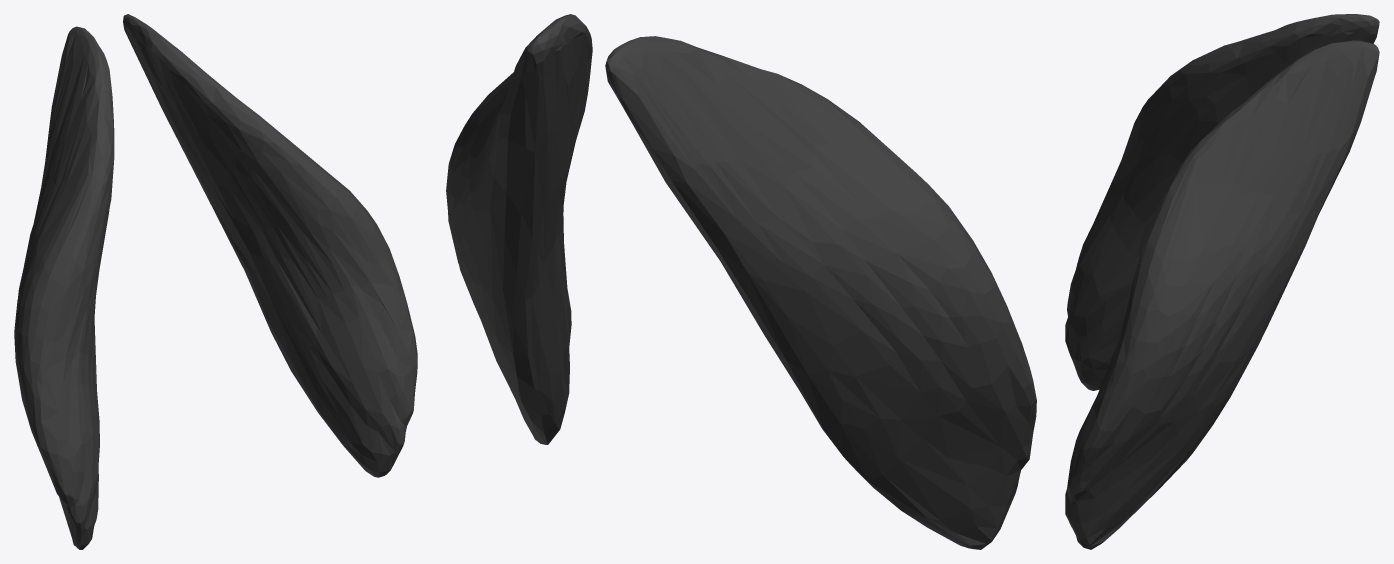
File: m_great_adductor.glb
The picture shows the model from 3 angles, left to right: view 1: azimuth 30°, elevation 25°; view 2: azimuth 150°, elevation 25°; view 3: azimuth 270°, elevation 25°; orthographic projection. The views are drawn at different scales.
Parts seen in each view (by area): view 1: m_great_adductor; view 2: m_great_adductor; view 3: m_great_adductor.
Part boxes in pixels (x1,y1,x2,y2): m_great_adductor: (14,14,417,549); m_great_adductor: (446,14,1036,549); m_great_adductor: (1065,14,1379,549).
Size of the model in its own units: 0.00519 by 0.00523 by 0.00338.
Materials: 1 (1 with a texture image).
